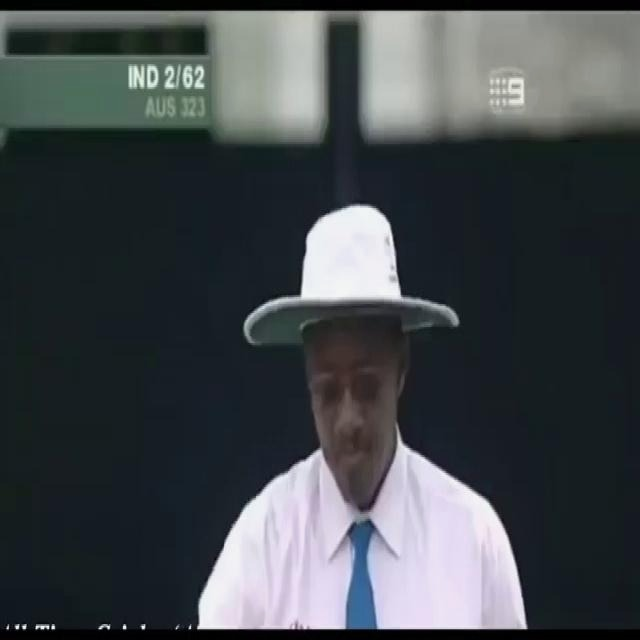No_Action: (185, 195, 539, 633)
